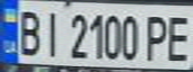0: (121, 10, 142, 62), (103, 10, 124, 61)
1: (84, 10, 106, 60)
2: (66, 9, 87, 60)
B: (12, 6, 45, 56)
E: (160, 11, 193, 63)
I: (39, 7, 66, 57)
P: (142, 10, 172, 62)
